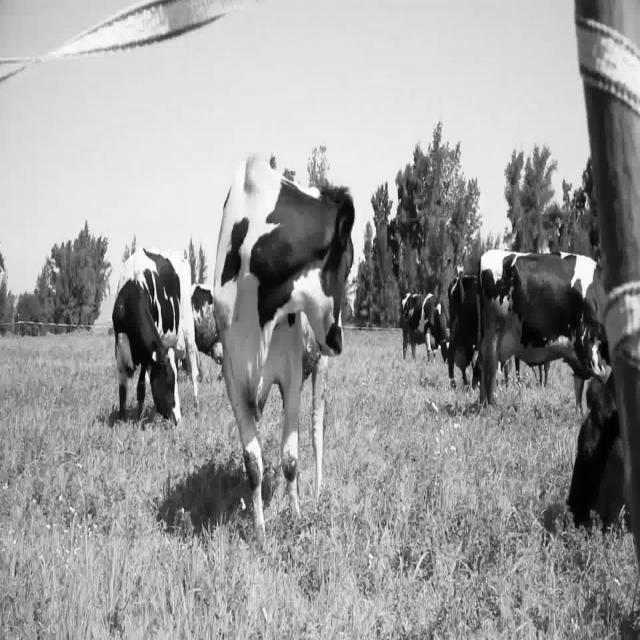cow: (214, 154, 354, 538), (480, 250, 610, 403), (112, 248, 200, 423)
